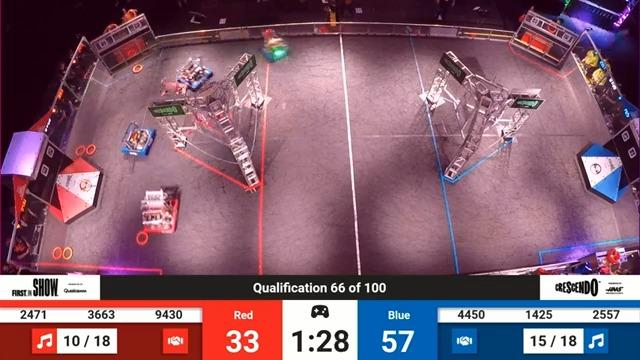robot: (132, 183, 188, 240), (120, 118, 159, 166), (258, 24, 290, 70), (175, 55, 219, 87), (159, 81, 185, 105)
